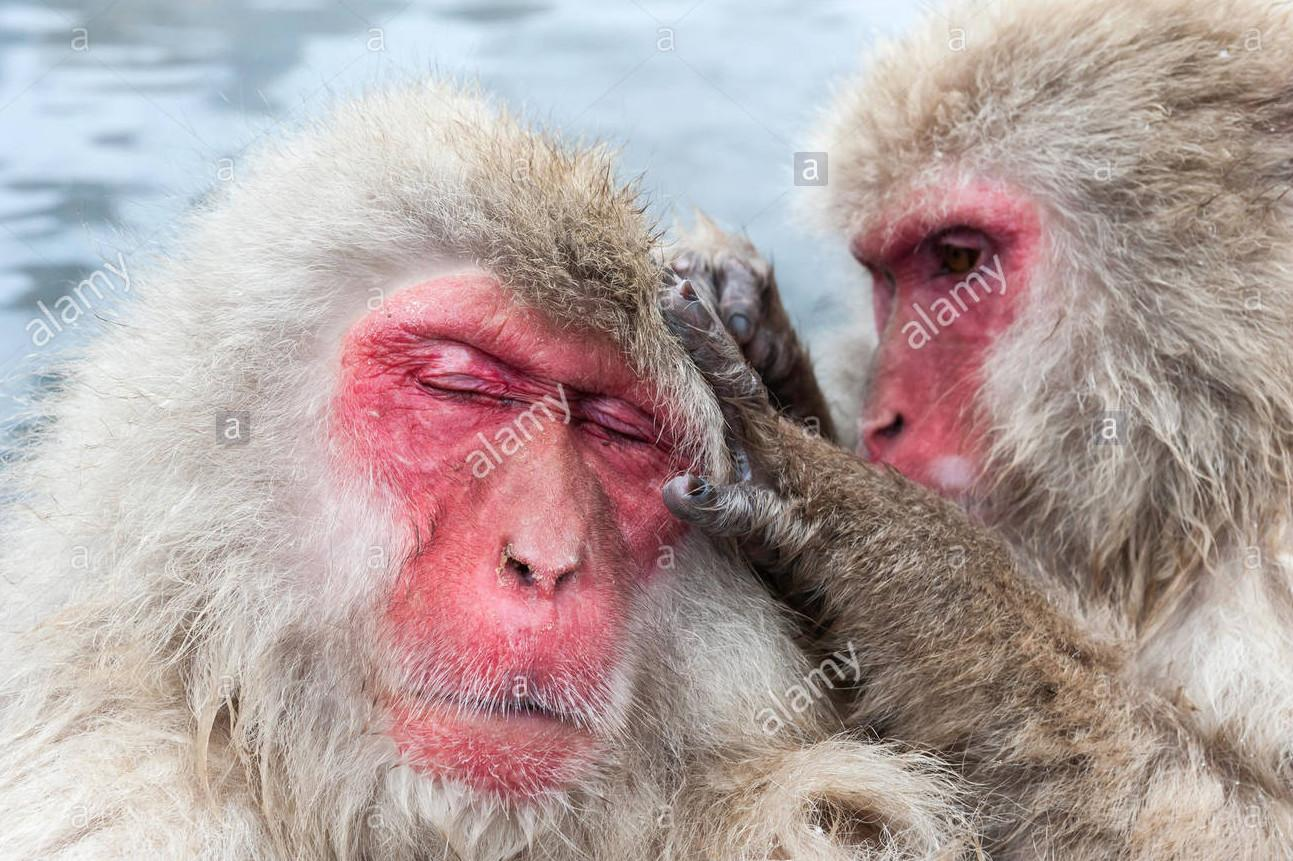monkey: (208, 237, 962, 861)
